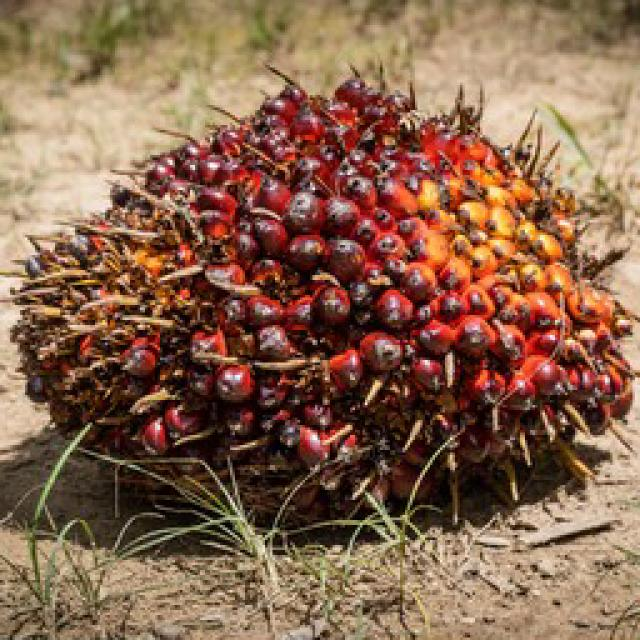FFB: (21, 86, 611, 528)
